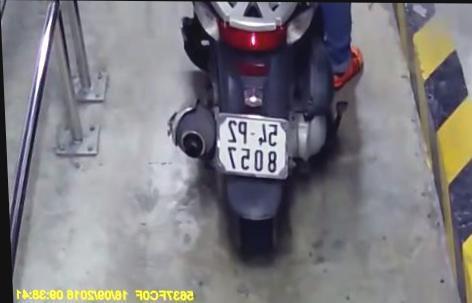License_Plate: (204, 108, 300, 186)
